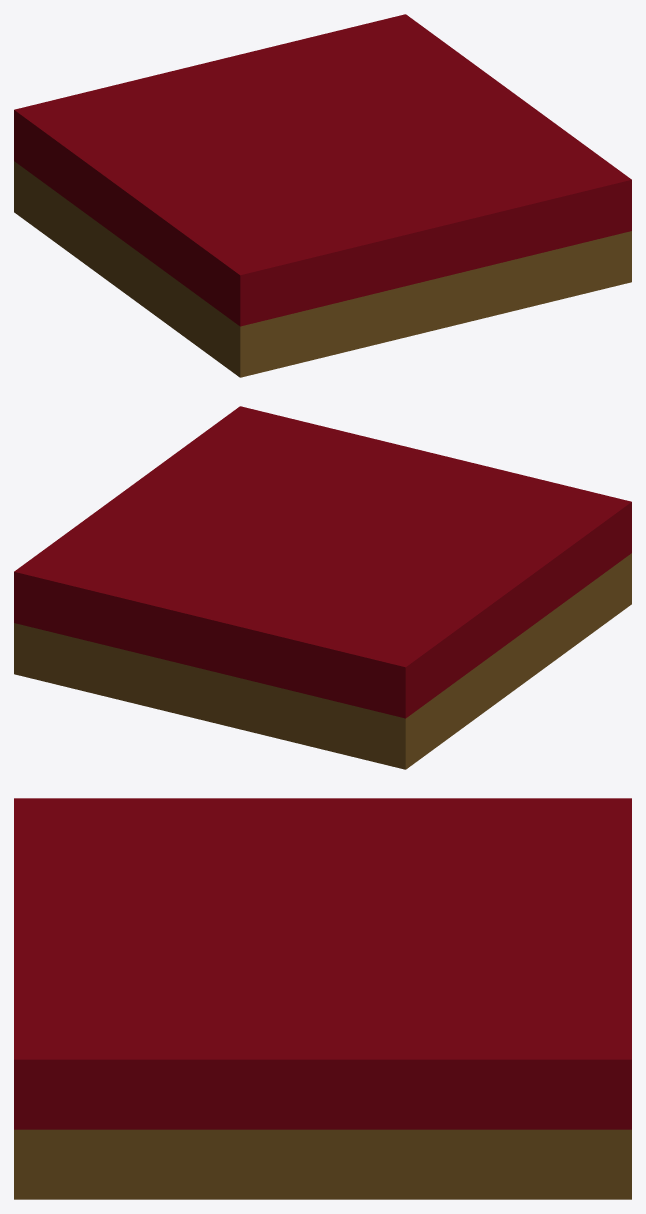
File: Start_tile.glb
The picture shows the model from 3 angles, top to bottom: view 1: azimuth 30°, elevation 25°; view 2: azimuth 150°, elevation 25°; view 3: azimuth 270°, elevation 25°; orthographic projection. The views are drawn at different scales.
Visible parts, largest first — view 1: Cube; view 2: Cube; view 3: Cube.
Part boxes in pixels (bbox=[...]): Cube: bbox=[14, 14, 631, 377]; Cube: bbox=[14, 406, 631, 769]; Cube: bbox=[14, 798, 631, 1199].
Size of the model in its own units: 2 by 0.5 by 2.
